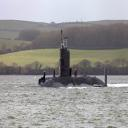submarine: (35, 31, 108, 87)
